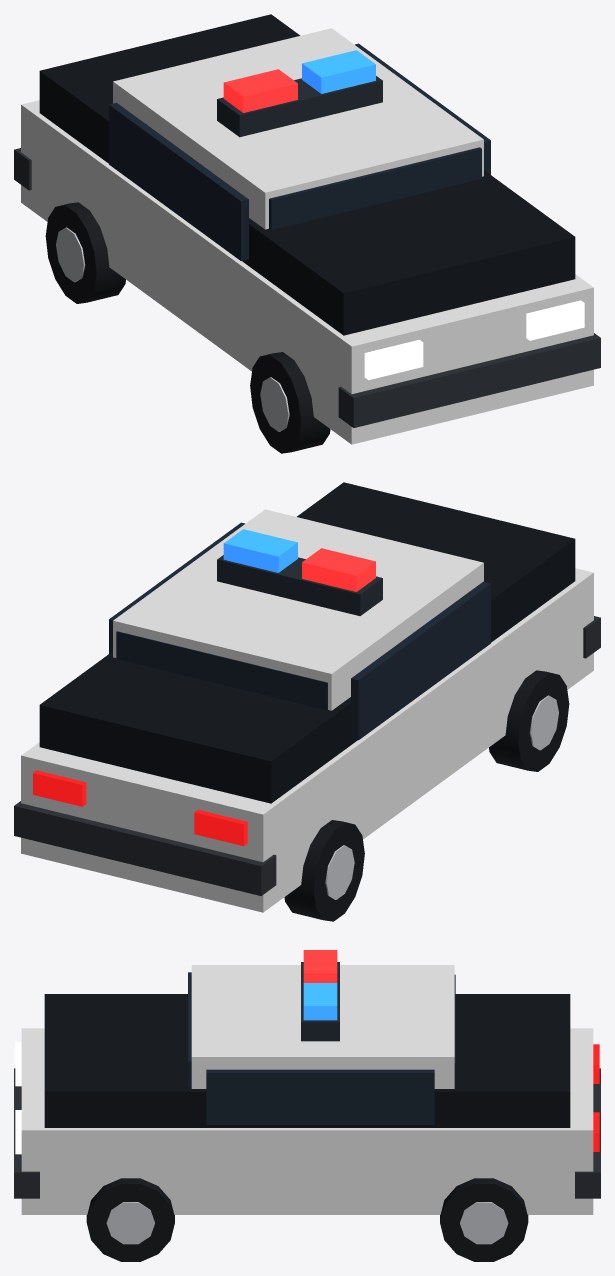
The model's file is mobil_polisi.glb.
The picture shows the model from 3 angles, top to bottom: view 1: azimuth 30°, elevation 25°; view 2: azimuth 150°, elevation 25°; view 3: azimuth 270°, elevation 25°; orthographic projection. The views are drawn at different scales.
Visible parts, largest first — view 1: object 1, object 2, object 3, object 6, object 8, object 4, wheel_fl, wheel_rl, object 14, object 15, object 16, object 10 (+3 smaller); view 2: object 1, object 2, object 3, object 6, object 9, object 5, wheel_fl, wheel_rl, object 14, object 16, object 15, object 11 (+3 smaller); view 3: object 1, object 2, object 3, object 7, wheel_fr, wheel_rr, object 16, object 9, object 14, object 8, object 15, object 4.
Part boxes in pixels (<box>): object 1: <box>21,100,593,444</box>; object 2: <box>39,14,575,335</box>; object 3: <box>113,28,483,229</box>; object 6: <box>109,102,248,261</box>; object 8: <box>338,333,600,427</box>; object 4: <box>269,147,481,229</box>; wheel_fl: <box>250,352,330,453</box>; wheel_rl: <box>45,202,125,303</box>; object 14: <box>217,76,382,137</box>; object 15: <box>223,69,297,112</box>; object 16: <box>302,50,375,93</box>; object 10: <box>364,339,423,380</box>; object 1: <box>21,568,593,912</box>; object 2: <box>39,482,575,803</box>; object 3: <box>113,509,483,710</box>; object 6: <box>351,581,490,740</box>; object 9: <box>14,801,276,895</box>; object 5: <box>116,631,327,709</box>; wheel_fl: <box>489,670,569,771</box>; wheel_rl: <box>284,820,364,921</box>; object 14: <box>217,555,382,615</box>; object 16: <box>223,529,297,572</box>; object 15: <box>302,548,375,591</box>; object 11: <box>194,809,247,846</box>; object 1: <box>21,1028,593,1214</box>; object 2: <box>44,994,570,1127</box>; object 3: <box>191,965,454,1088</box>; object 7: <box>206,1069,434,1124</box>; wheel_fr: <box>86,1178,174,1261</box>; wheel_rr: <box>440,1178,528,1261</box>; object 16: <box>303,983,337,1020</box>; object 9: <box>575,1068,600,1198</box>; object 14: <box>301,962,339,1041</box>; object 8: <box>14,1068,39,1198</box>; object 15: <box>303,950,337,982</box>; object 4: <box>188,972,191,1087</box>.
Bounding box in the file's own units: 2.08 × 1.93 × 4.52.
